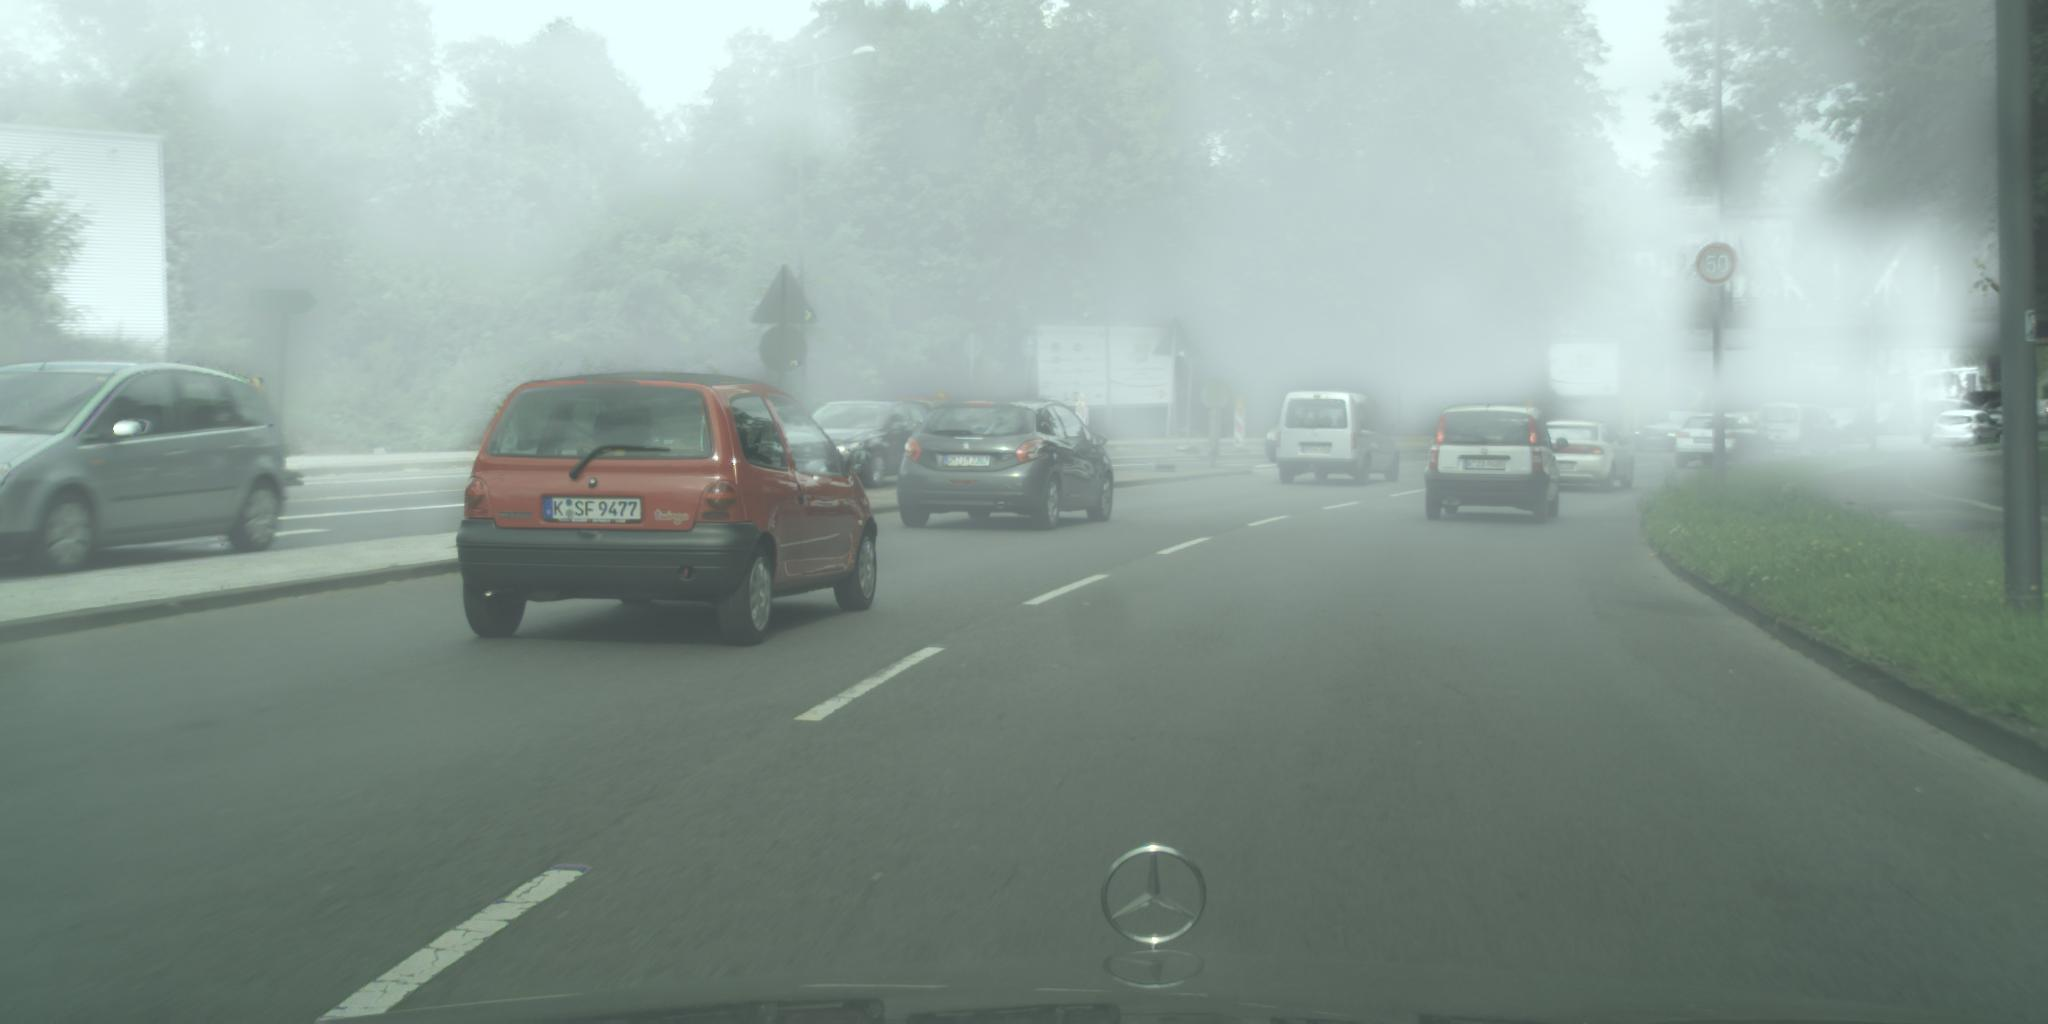car: (455, 374, 879, 649), (1, 359, 289, 579), (897, 396, 1115, 532), (1422, 404, 1571, 526), (788, 400, 940, 491), (1276, 391, 1401, 488), (1537, 419, 1637, 494), (1674, 411, 1778, 470), (1757, 402, 1842, 458), (1932, 410, 2005, 452), (1923, 398, 1984, 445), (1634, 411, 1701, 455), (1821, 406, 1876, 445), (1863, 401, 1917, 438), (1974, 401, 2017, 438), (1266, 421, 1288, 465)
